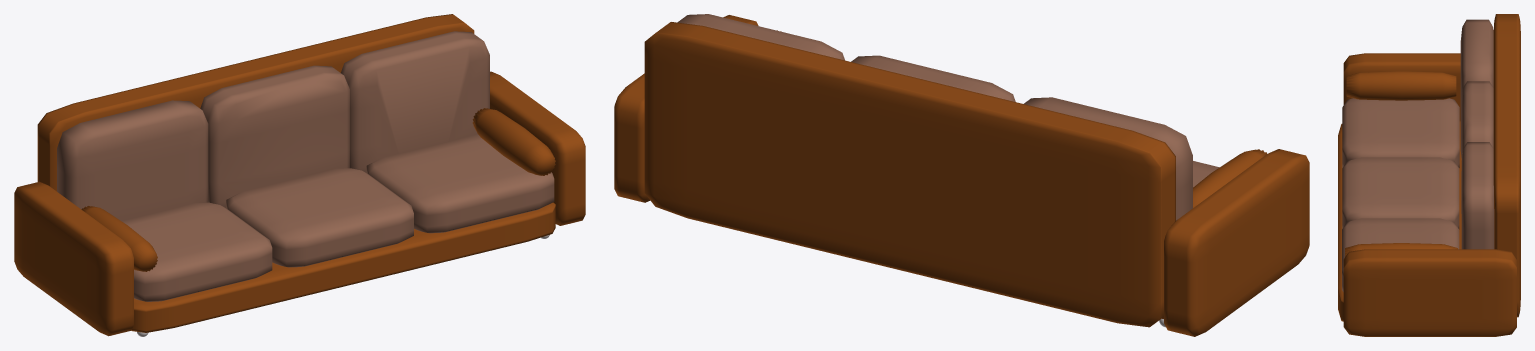
The model's file is sofa.fbx.
3 renders of one model, left to right at view 1: azimuth 30°, elevation 25°; view 2: azimuth 150°, elevation 25°; view 3: azimuth 270°, elevation 25°, orthographic. The views are drawn at different scales.
Parts seen in each view (by area): view 1: pasted__pCube1, pasted__pasted__pCube1, pCube1, pCube2, pasted__pasted__pasted__pasted__pCube1, pasted__pCube3, pasted__pasted__pasted__pCube1, pasted__pCube2, pasted__pasted__pasted__pasted__pasted__pCube1, pCube3, pasted__pCylinder1, pCylinder1; view 2: pasted__pCube2, pasted__pCube3, pCube3, pCube1, pasted__pasted__pCube1, pasted__pCube1, pCylinder1; view 3: pCube3, pasted__pasted__pasted__pasted__pCube1, pasted__pasted__pasted__pasted__pasted__pCube1, pasted__pCube2, pasted__pasted__pCube1, pasted__pasted__pasted__pCube1, pCylinder1, pasted__pCube3, pCube1, pasted__pCube1, pCube2, pasted__pCylinder1.
Boxes of the visible parts, x1,y1,x2,y2 form: pasted__pCube1: (200,65,349,207); pasted__pasted__pCube1: (341,31,489,172); pCube1: (57,100,208,220); pCube2: (131,202,555,332); pasted__pasted__pasted__pasted__pCube1: (226,168,413,267); pasted__pCube3: (14,181,133,336); pasted__pasted__pasted__pCube1: (366,134,554,233); pasted__pCube2: (37,14,474,191); pasted__pasted__pasted__pasted__pasted__pCube1: (121,202,272,301); pCube3: (490,71,585,225); pasted__pCylinder1: (472,108,555,175); pCylinder1: (81,206,157,271); pasted__pCube2: (644,22,1175,327); pasted__pCube3: (1164,149,1309,336); pCube3: (614,15,758,202); pCube1: (1024,97,1192,220); pasted__pasted__pCube1: (677,14,844,60); pasted__pCube1: (851,55,1015,101); pCylinder1: (1193,149,1266,207); pCube3: (1343,249,1516,336); pasted__pasted__pasted__pasted__pCube1: (1342,157,1459,229); pasted__pasted__pasted__pasted__pasted__pCube1: (1342,98,1459,167); pasted__pCube2: (1493,14,1520,317); pasted__pasted__pCube1: (1461,142,1494,249); pasted__pasted__pasted__pCube1: (1342,218,1459,291); pCylinder1: (1346,71,1456,100); pasted__pCube3: (1343,53,1460,120); pCube1: (1460,19,1493,159); pasted__pCube1: (1461,81,1493,213); pCube2: (1338,120,1461,321); pasted__pCylinder1: (1345,243,1457,256).
Size of the model in its own units: 22.89 by 7.25 by 8.47.
